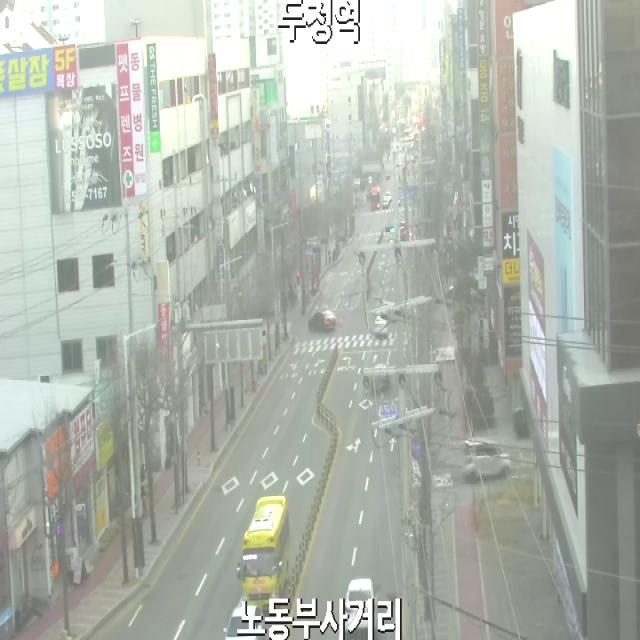Bus: (236, 497, 291, 607), (370, 187, 380, 210)
Car: (464, 437, 512, 481), (345, 578, 374, 633), (224, 605, 265, 640), (307, 310, 336, 331), (374, 316, 388, 338), (384, 191, 392, 200), (382, 199, 389, 209)
